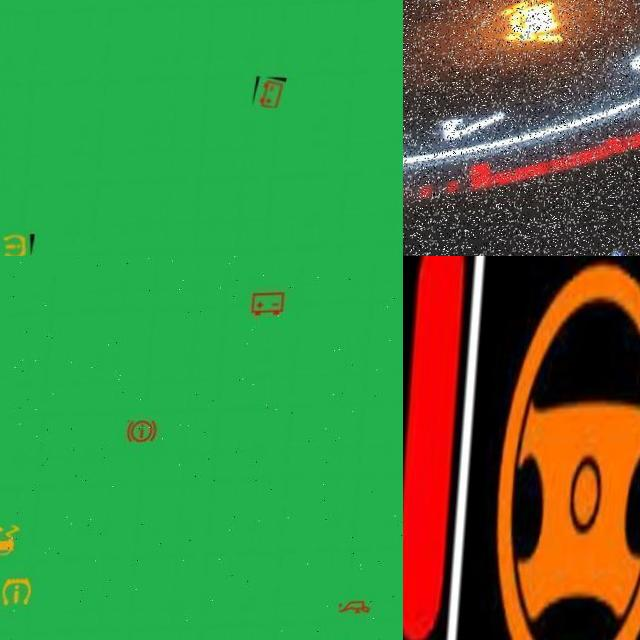Electronic Power Steering: (486, 256, 640, 640), (403, 256, 471, 640)
